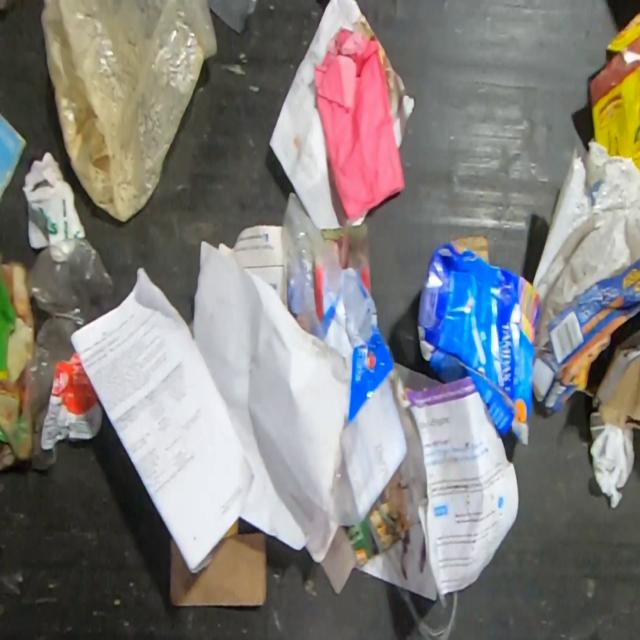cardboard: (416, 232, 542, 448), (532, 253, 640, 444), (318, 471, 407, 596), (168, 517, 268, 608), (586, 7, 640, 172), (0, 258, 36, 471), (20, 148, 87, 249), (0, 108, 29, 201)
soft_plastic: (279, 189, 426, 527), (39, 0, 218, 223), (22, 236, 116, 471), (531, 136, 640, 329), (40, 351, 105, 448), (328, 445, 360, 527)
